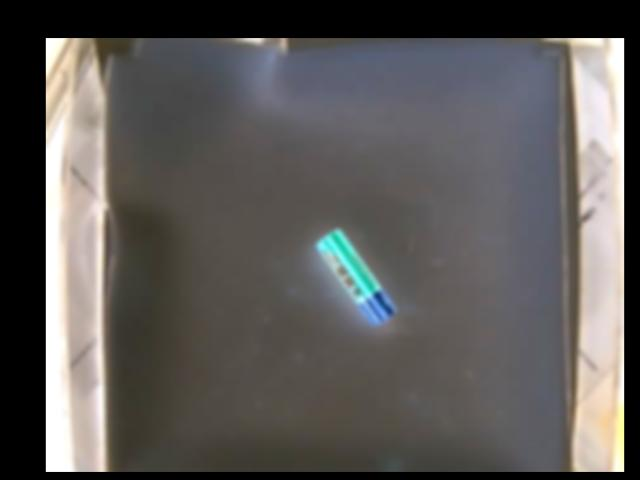Battery: (316, 226, 397, 323)
